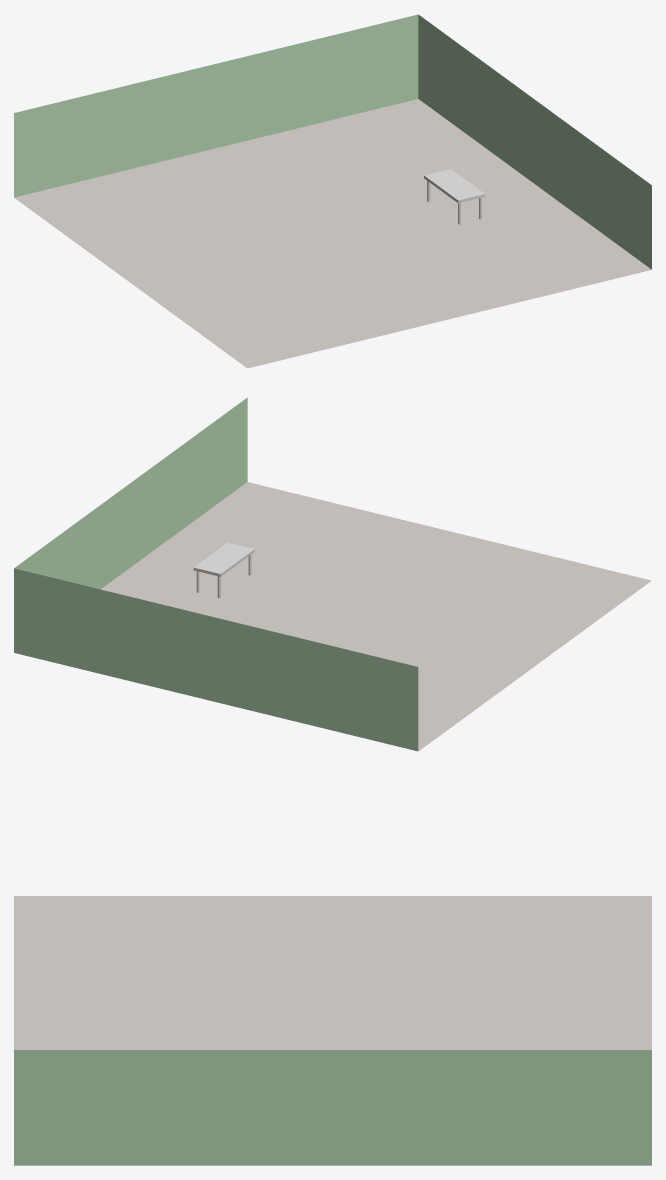
The model's file is space.glb.
The picture shows the model from 3 angles, top to bottom: view 1: azimuth 30°, elevation 25°; view 2: azimuth 150°, elevation 25°; view 3: azimuth 270°, elevation 25°; orthographic projection. The views are drawn at different scales.
Parts seen in each view (by area): view 1: 평면, Cube.001; view 2: 평면, Cube.001; view 3: 평면.
Part boxes in pixels (bbox=[...]): 평면: bbox=[14, 14, 651, 368]; Cube.001: bbox=[424, 169, 485, 224]; 평면: bbox=[14, 397, 651, 751]; Cube.001: bbox=[193, 542, 254, 597]; 평면: bbox=[14, 896, 651, 1165].
Bounding box in the file's own units: 2000 × 399 × 2000.
